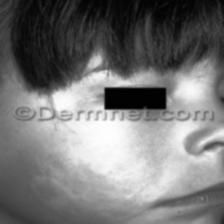Unclassified: (30, 164, 110, 221)
